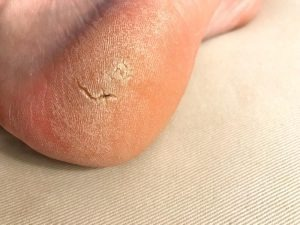Warts: (64, 53, 144, 113)
